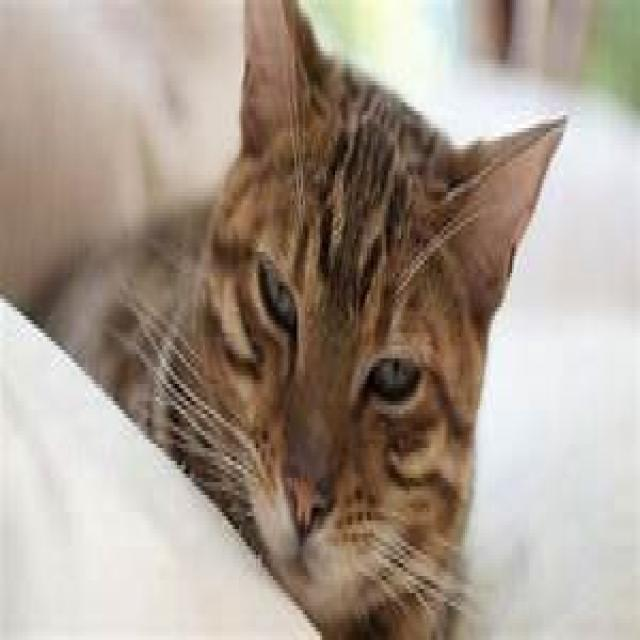animal: (40, 0, 568, 636)
